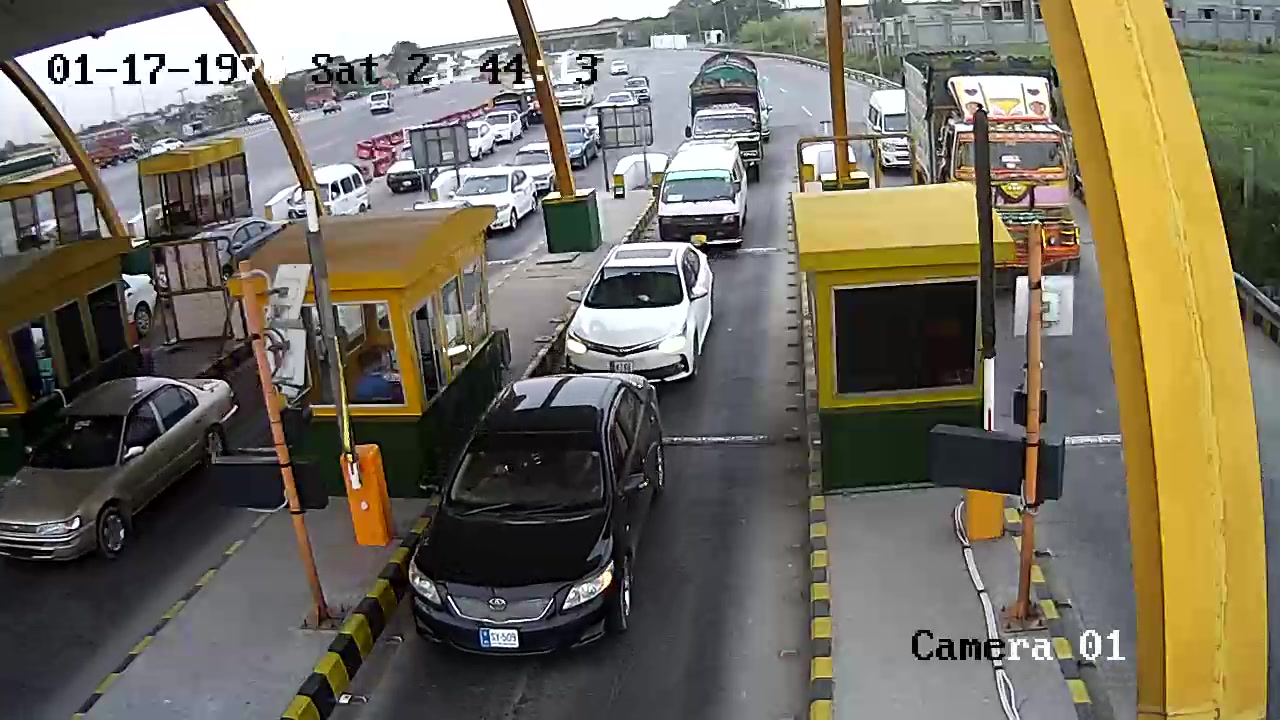F1: (406, 367, 672, 670), (550, 220, 719, 394)
